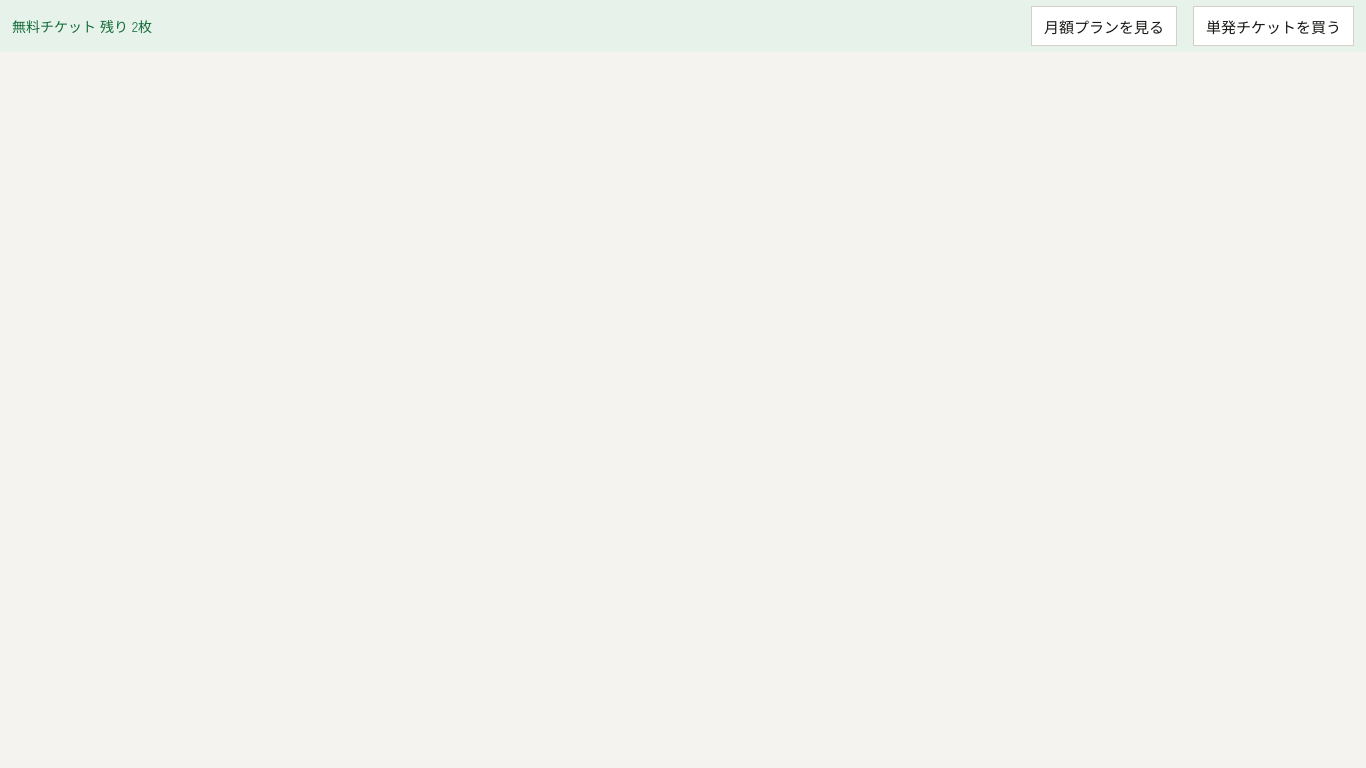
Test case: 単発チケットの導線 › 未加入の帯は、単発チケットを買うを押すと単発チケットの層を開く
Step 1. Click the button "単発チケットを買う" → (1274,26), box [1193,6,1354,46]
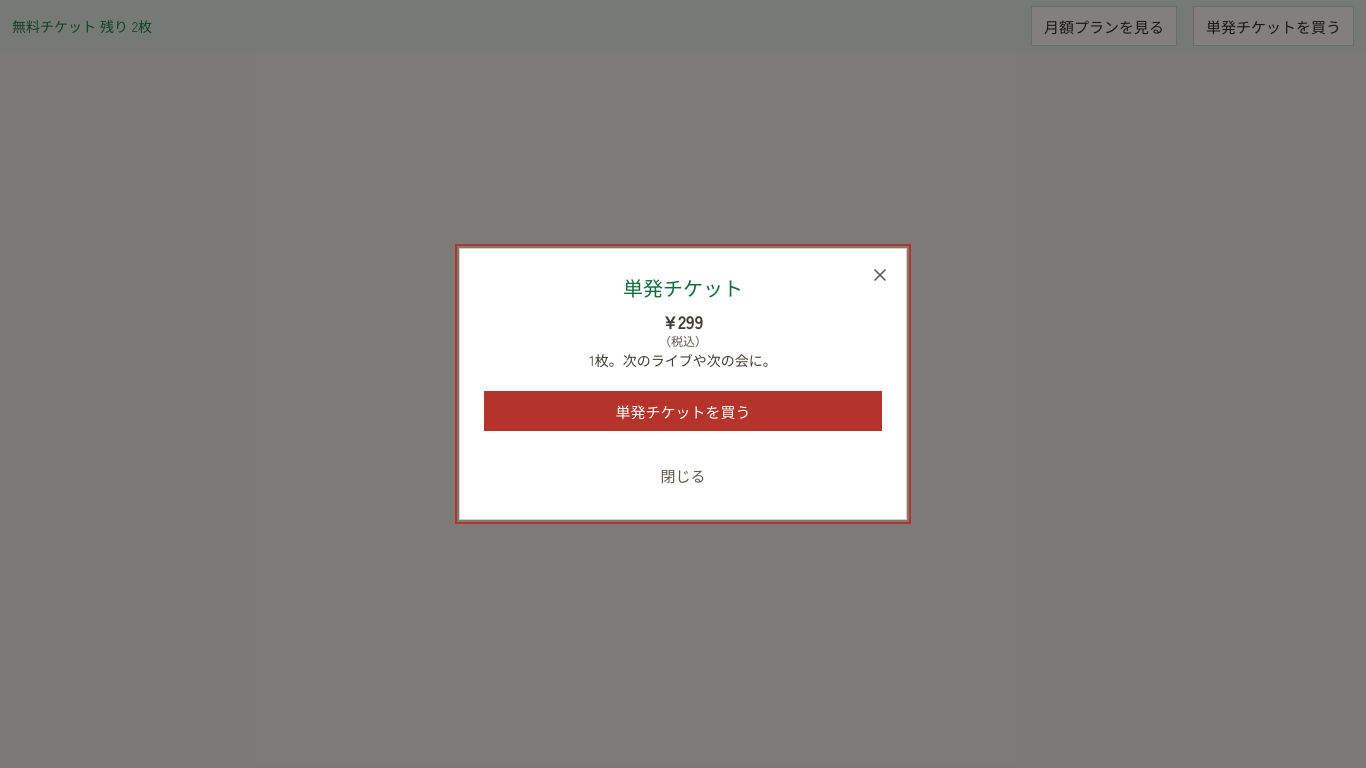
Check: the dialog is shown, box [459,248,907,520]
Check: the heading "単発チケット" is shown, box [623,273,743,302]
